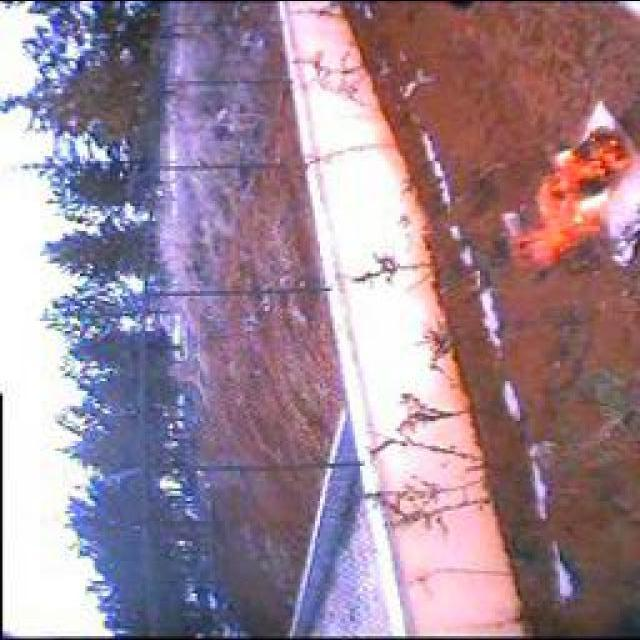Fire: (514, 122, 638, 268)
